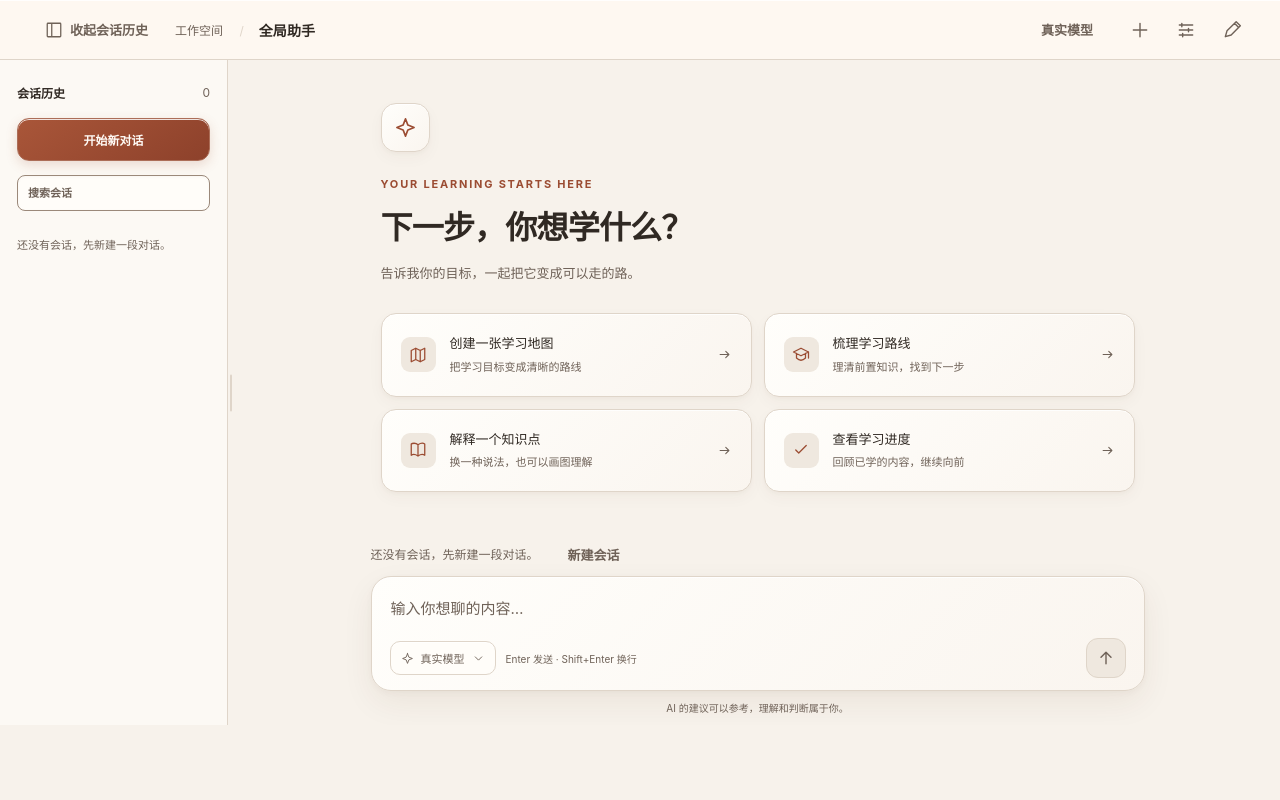
Scenario: does not present a private role as the global assistant after history was cleared
The image size is (1280, 800).
Expected: the message shows "还没有会话", left=370, top=547, right=538, bottom=562
Click the button named "配置" at (1186, 30), box left=1166, top=10, right=1206, bottom=50
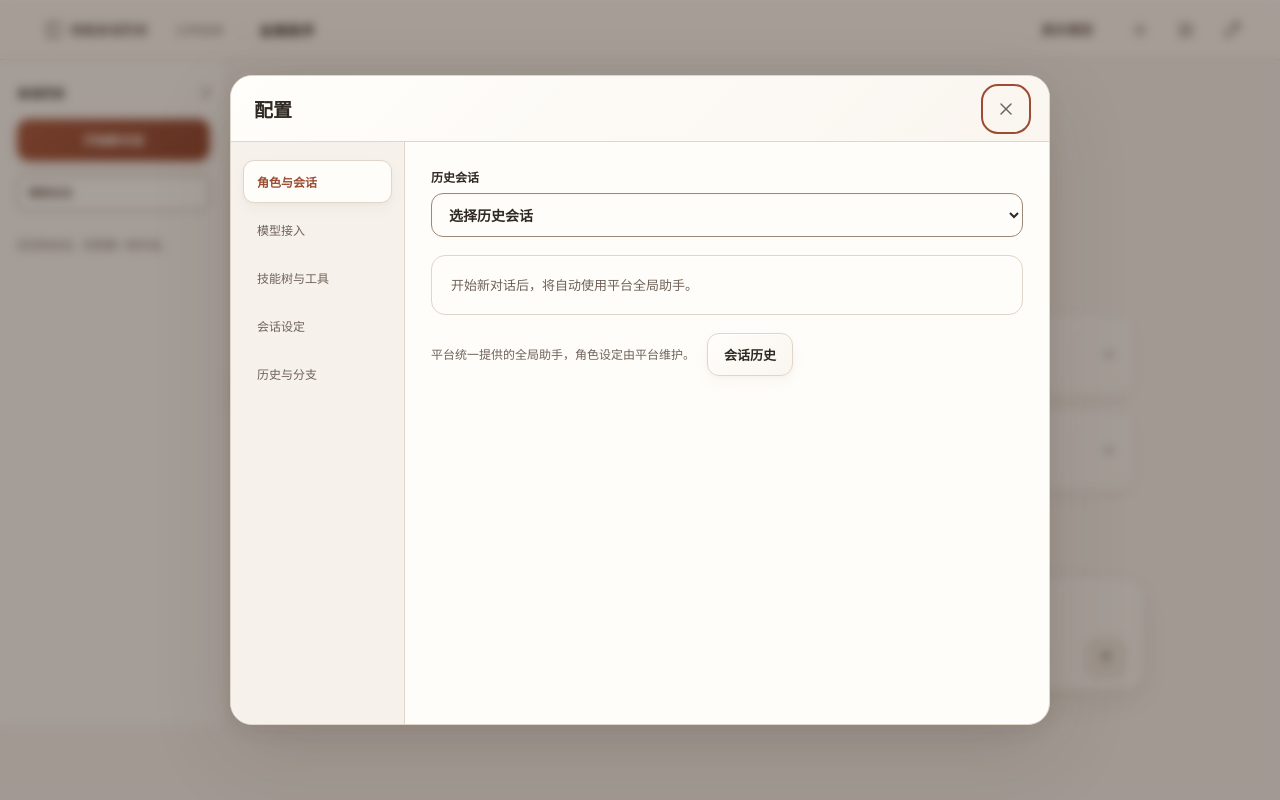
Expected: the text "开始新对话后，将自动使用平台全局助手。" is shown, left=431, top=255, right=1023, bottom=315
